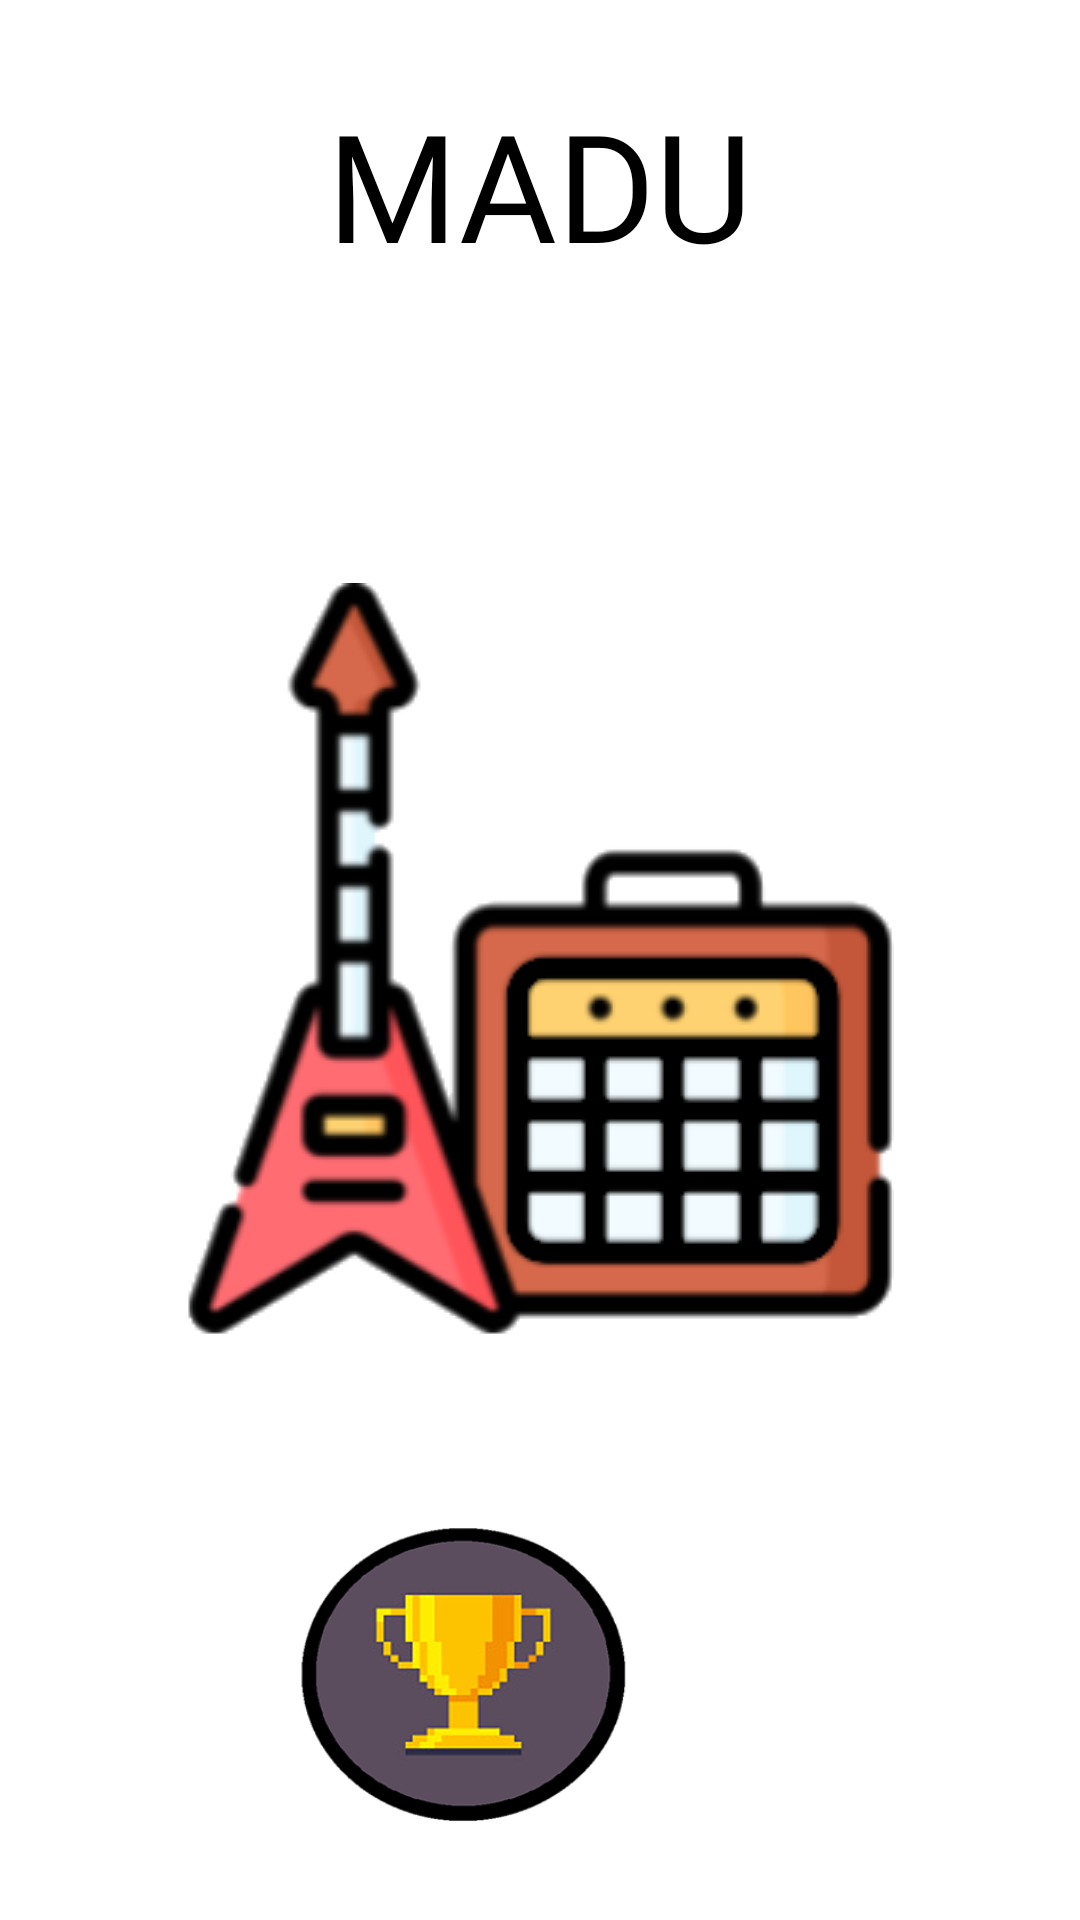

Where icons sit on this 1080 × 1920 app screen, as (left=x1, top=y1, right=x2, bottom=y2):
ranking negro: (left=301, top=1528, right=626, bottom=1821)
